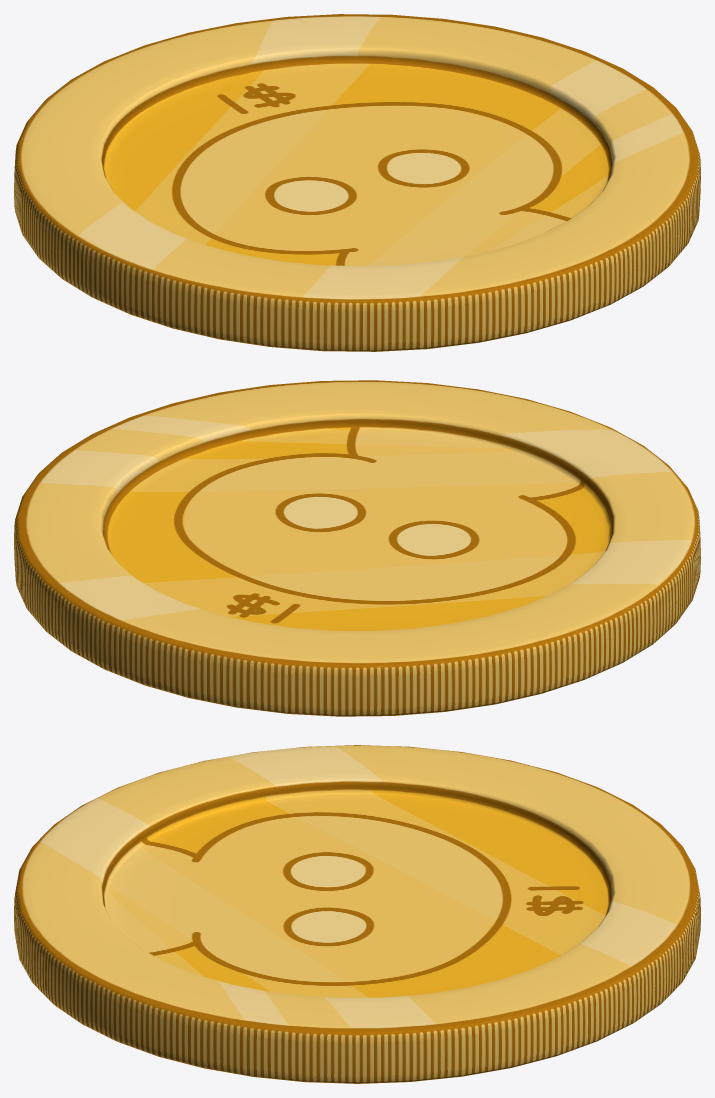
Rendered from greg coin.fbx.
3 views of the same model, one above another, from view 1: azimuth 30°, elevation 25°; view 2: azimuth 150°, elevation 25°; view 3: azimuth 270°, elevation 25° (orthographic).
Visible parts, largest first — view 1: pCylinder22; view 2: pCylinder22; view 3: pCylinder22.
Boxes of the visible parts, x1,y1,x2,y2 form: pCylinder22: [14, 14, 700, 351]; pCylinder22: [14, 380, 700, 716]; pCylinder22: [14, 745, 700, 1083].
Bounding box in the file's own units: 1.84 × 0.1632 × 1.84.
